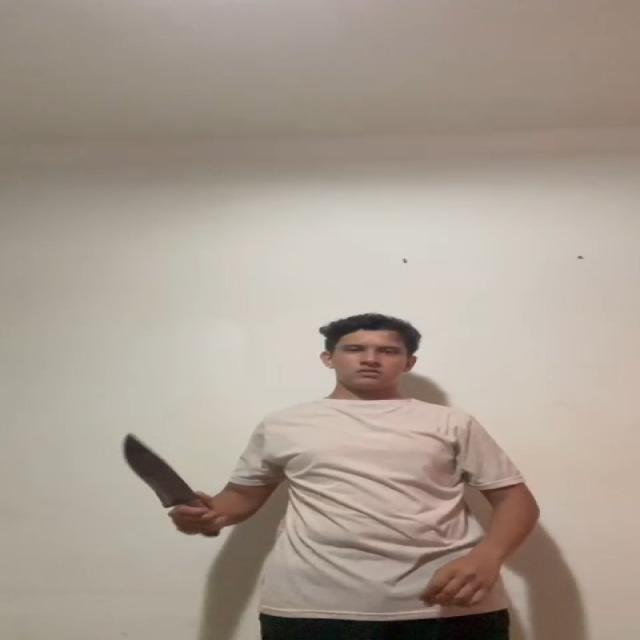knife: (120, 434, 191, 501)
